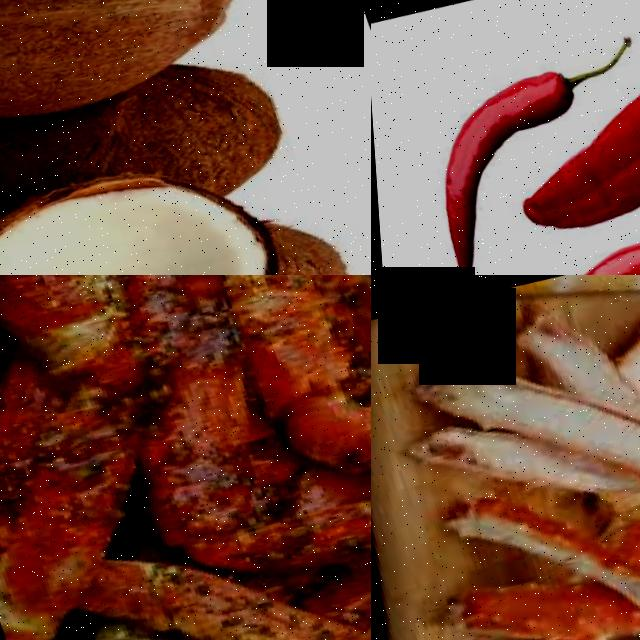chilli: (380, 47, 601, 210), (525, 8, 640, 240), (428, 172, 640, 275)
coconut: (0, 0, 273, 164), (0, 127, 297, 275)
crab: (0, 275, 371, 640), (407, 448, 640, 640)
